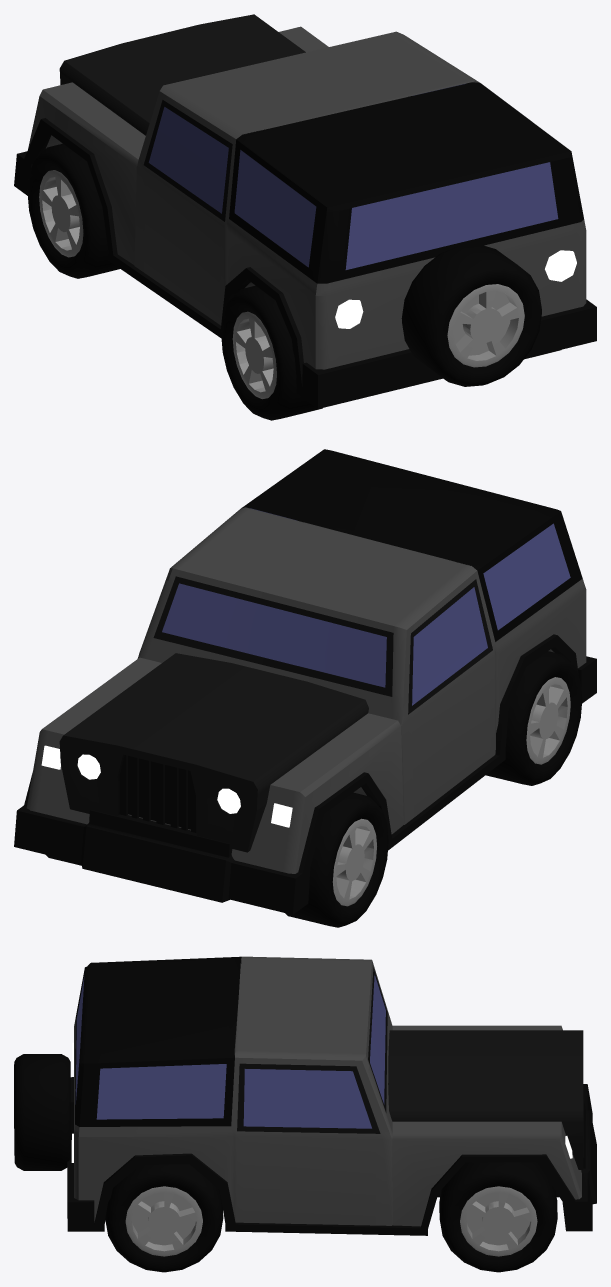
Rendered from thar.glb.
3 views of the same model, one above another, from view 1: azimuth 30°, elevation 25°; view 2: azimuth 150°, elevation 25°; view 3: azimuth 270°, elevation 25° (orthographic). The views are drawn at different scales.
Parts seen in each view (by area): view 1: Object_9, Object_3, Object_6, Object_4, Object_5, Object_10, Object_2, Object_8; view 2: Object_3, Object_9, Object_5, Object_6, Object_4, Object_2, Object_10, Object_7, Object_8; view 3: Object_3, Object_9, Object_5, Object_6, Object_4, Object_10, Object_2.
Part boxes in pixels (x1=…): Object_9: x1=27, y1=82, x2=583, y2=420; Object_3: x1=28, y1=26, x2=586, y2=369; Object_6: x1=148, y1=83, x2=558, y2=269; Object_4: x1=14, y1=118, x2=596, y2=408; Object_5: x1=59, y1=14, x2=305, y2=135; Object_10: x1=39, y1=170, x2=524, y2=399; Object_2: x1=143, y1=82, x2=471, y2=221; Object_8: x1=335, y1=250, x2=576, y2=328; Object_3: x1=26, y1=507, x2=586, y2=873; Object_9: x1=46, y1=449, x2=582, y2=927; Object_5: x1=59, y1=653, x2=368, y2=852; Object_6: x1=162, y1=508, x2=570, y2=705; Object_4: x1=14, y1=634, x2=596, y2=914; Object_2: x1=153, y1=576, x2=492, y2=714; Object_10: x1=332, y1=677, x2=570, y2=906; Object_7: x1=117, y1=754, x2=196, y2=832; Object_8: x1=41, y1=745, x2=292, y2=827; Object_3: x1=74, y1=956, x2=581, y2=1226; Object_9: x1=14, y1=956, x2=557, y2=1272; Object_5: x1=388, y1=1030, x2=583, y2=1169; Object_6: x1=75, y1=975, x2=385, y2=1128; Object_4: x1=67, y1=1084, x2=596, y2=1235; Object_10: x1=125, y1=1186, x2=537, y2=1256; Object_2: x1=237, y1=967, x2=387, y2=1133.
Size of the model in its own units: 0.9121 by 0.7009 by 1.77.
